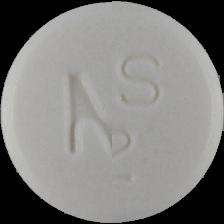0378-4140: (0, 0, 224, 224)
